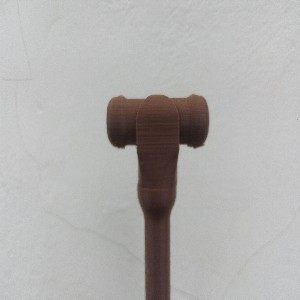palu: (106, 93, 210, 300)
